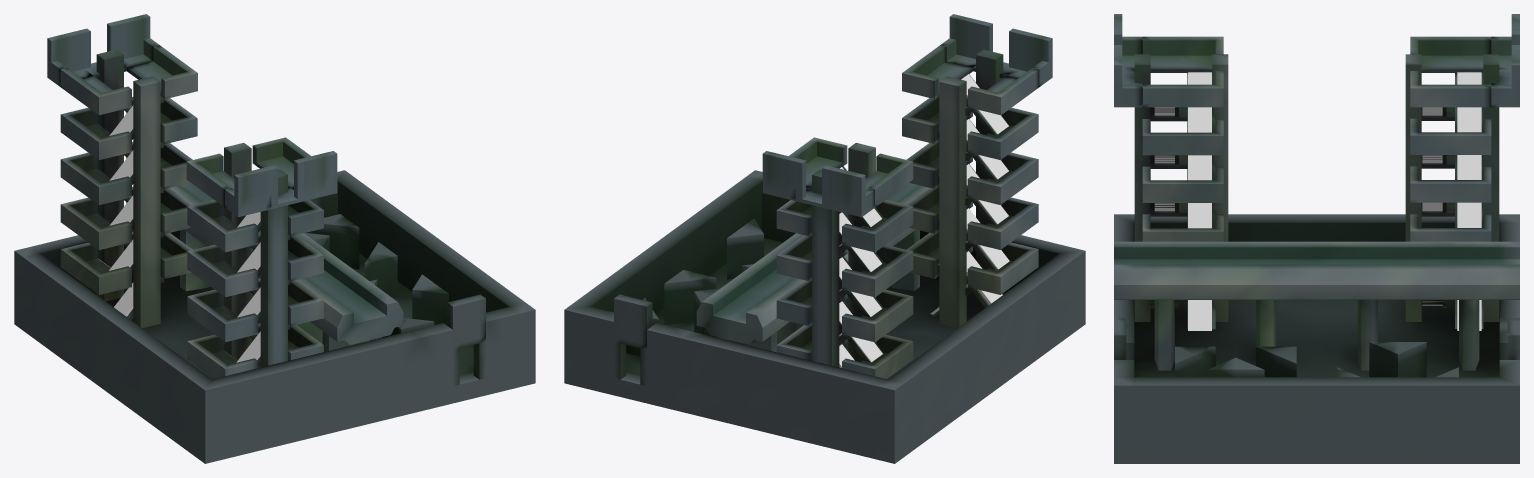
3 renders of one model, left to right at view 1: azimuth 30°, elevation 25°; view 2: azimuth 150°, elevation 25°; view 3: azimuth 270°, elevation 25°, orthographic. The views are drawn at different scales.
Visible parts, largest first — view 1: two_tank_roof04, double staircase02, skybridge01, Cylinder22, ramp12, metal; view 2: two_tank_roof04, double staircase02, skybridge01, ramp12, Cylinder22, metal; view 3: two_tank_roof04, double staircase02, skybridge01, ramp12, Cylinder22, metal.
Part boxes in pixels (left/top/right/bottom): two_tank_roof04: left=14, top=170, right=535, bottom=463; double staircase02: left=47, top=14, right=337, bottom=378; skybridge01: left=170, top=183, right=403, bottom=351; Cylinder22: left=304, top=214, right=448, bottom=337; ramp12: left=99, top=105, right=260, bottom=362; metal: left=120, top=96, right=290, bottom=366; two_tank_roof04: left=564, top=170, right=1085, bottom=463; double staircase02: left=762, top=14, right=1052, bottom=378; skybridge01: left=696, top=183, right=929, bottom=352; ramp12: left=839, top=74, right=1009, bottom=367; Cylinder22: left=626, top=218, right=763, bottom=356; metal: left=839, top=74, right=1008, bottom=367; two_tank_roof04: left=1114, top=214, right=1519, bottom=463; double staircase02: left=1114, top=14, right=1519, bottom=321; skybridge01: left=1114, top=241, right=1519, bottom=370; ramp12: left=1154, top=72, right=1481, bottom=330; Cylinder22: left=1175, top=342, right=1458, bottom=377; metal: left=1150, top=73, right=1483, bottom=329.
Bounding box in the file's own units: 20 × 16.08 × 20.
